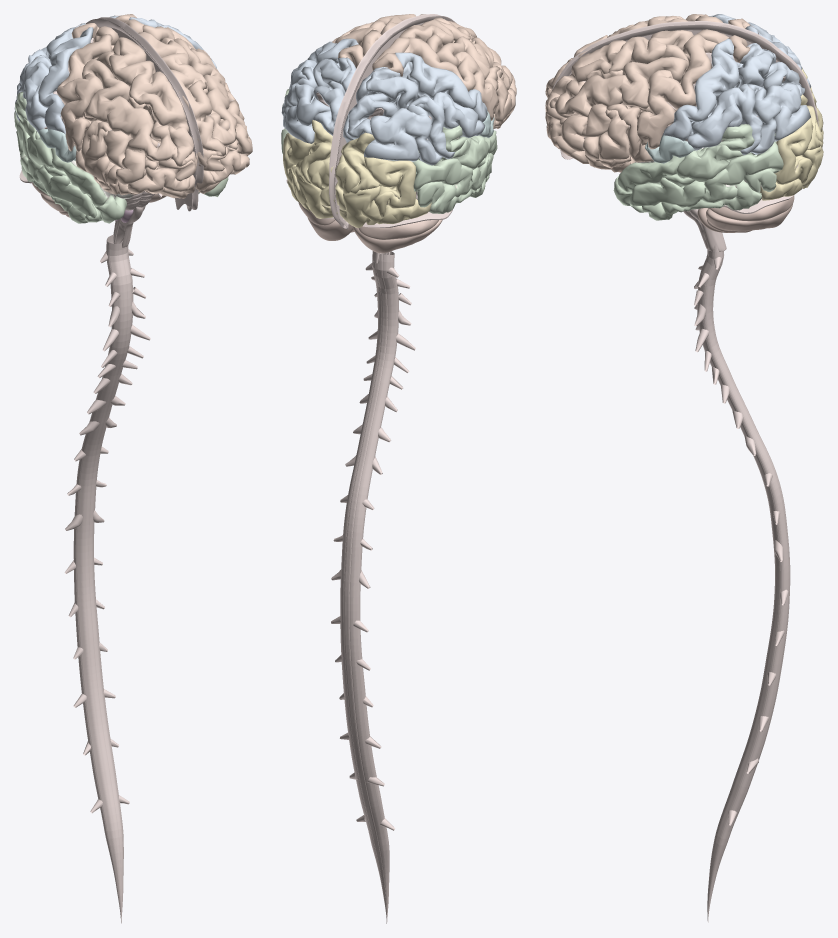
The model's file is brain.glb.
3 views of the same model, side by side, from view 1: azimuth 30°, elevation 25°; view 2: azimuth 150°, elevation 25°; view 3: azimuth 270°, elevation 25° (orthographic).
Parts seen in each view (by area): view 1: spinal_dura, middle_frontal_gyrus_r, superior_frontal_gyrus_r, precentral_gyrus_r, superior_frontal_gyrus_l, falx_cerebri, middle_frontal_gyrus_l, postcentral_gyrus_r, middle_temporal_gyrus_r, superior_temporal_gyrus_lateral_part_r, supramarginal_gyrus_r, orbital_gyri_frontomarginal_gyrus_and_sulcus_r (+9 smaller); view 2: spinal_dura, angular_gyrus_r, falx_cerebri, superior_parietal_lobule_r, postcentral_gyrus_r, supramarginal_gyrus_r, lateral_occipital_gyrus_middle_occipital_gyrus_r, precentral_gyrus_r, angular_gyrus_l, middle_temporal_gyrus_r, superior_parietal_lobule_l, middle_frontal_gyrus_r (+18 smaller); view 3: spinal_dura, middle_frontal_gyrus_l, precentral_gyrus_l, middle_temporal_gyrus_l, superior_frontal_gyrus_l, postcentral_gyrus_l, falx_cerebri, supramarginal_gyrus_l, superior_temporal_gyrus_lateral_part_l, angular_gyrus_l, inferior_temporal_gyrus_l, superior_parietal_lobule_l (+11 smaller).
Boxes of the visible parts, bbox=[...] form: spinal_dura: bbox=[64, 234, 150, 923]; middle_frontal_gyrus_r: bbox=[82, 59, 177, 184]; superior_frontal_gyrus_r: bbox=[109, 37, 197, 168]; precentral_gyrus_r: bbox=[57, 34, 112, 151]; superior_frontal_gyrus_l: bbox=[138, 32, 225, 167]; falx_cerebri: bbox=[86, 17, 203, 211]; middle_frontal_gyrus_l: bbox=[173, 38, 252, 154]; postcentral_gyrus_r: bbox=[38, 27, 93, 134]; middle_temporal_gyrus_r: bbox=[14, 111, 96, 218]; superior_temporal_gyrus_lateral_part_r: bbox=[20, 118, 107, 207]; supramarginal_gyrus_r: bbox=[14, 56, 51, 133]; orbital_gyri_frontomarginal_gyrus_and_sulcus_r: bbox=[127, 163, 190, 193]; spinal_dura: bbox=[331, 251, 415, 923]; angular_gyrus_r: bbox=[364, 95, 442, 165]; falx_cerebri: bbox=[329, 14, 455, 229]; superior_parietal_lobule_r: bbox=[347, 67, 418, 139]; postcentral_gyrus_r: bbox=[395, 52, 487, 122]; supramarginal_gyrus_r: bbox=[415, 92, 485, 159]; lateral_occipital_gyrus_middle_occipital_gyrus_r: bbox=[364, 157, 415, 217]; precentral_gyrus_r: bbox=[404, 37, 498, 120]; angular_gyrus_l: bbox=[283, 66, 330, 143]; middle_temporal_gyrus_r: bbox=[412, 153, 493, 197]; superior_parietal_lobule_l: bbox=[313, 57, 351, 131]; middle_frontal_gyrus_r: bbox=[436, 36, 516, 95]; spinal_dura: bbox=[694, 245, 790, 922]; middle_frontal_gyrus_l: bbox=[549, 57, 688, 151]; precentral_gyrus_l: bbox=[637, 33, 717, 149]; middle_temporal_gyrus_l: bbox=[629, 141, 783, 207]; superior_frontal_gyrus_l: bbox=[545, 30, 693, 111]; postcentral_gyrus_l: bbox=[662, 38, 739, 141]; falx_cerebri: bbox=[552, 21, 818, 167]; supramarginal_gyrus_l: bbox=[687, 83, 762, 155]; superior_temporal_gyrus_lateral_part_l: bbox=[617, 145, 743, 192]; angular_gyrus_l: bbox=[747, 83, 810, 154]; inferior_temporal_gyrus_l: bbox=[642, 168, 779, 220]; superior_parietal_lobule_l: bbox=[738, 44, 805, 95].
Size of the model in its own units: 0.1378 by 0.6458 by 0.1807.
